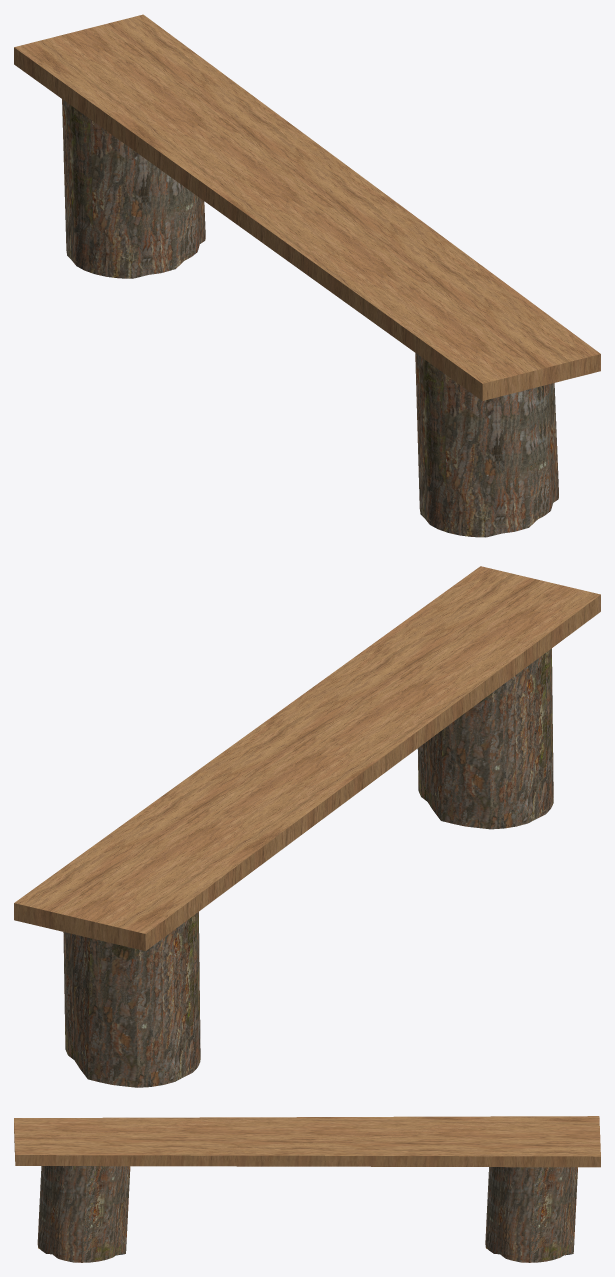
File: wood_bench.glb
The picture shows the model from 3 angles, top to bottom: view 1: azimuth 30°, elevation 25°; view 2: azimuth 150°, elevation 25°; view 3: azimuth 270°, elevation 25°; orthographic projection. The views are drawn at different scales.
Visible parts, largest first — view 1: Cube.054; view 2: Cube.054; view 3: Cube.054.
Part boxes in pixels (box(x1,y1,x2,y2)): Cube.054: box(14, 14, 600, 537); Cube.054: box(14, 566, 600, 1087); Cube.054: box(14, 1116, 600, 1262).
Bounding box in the file's own units: 0.392 × 0.5194 × 2.41.
3 materials, 3 textured.
